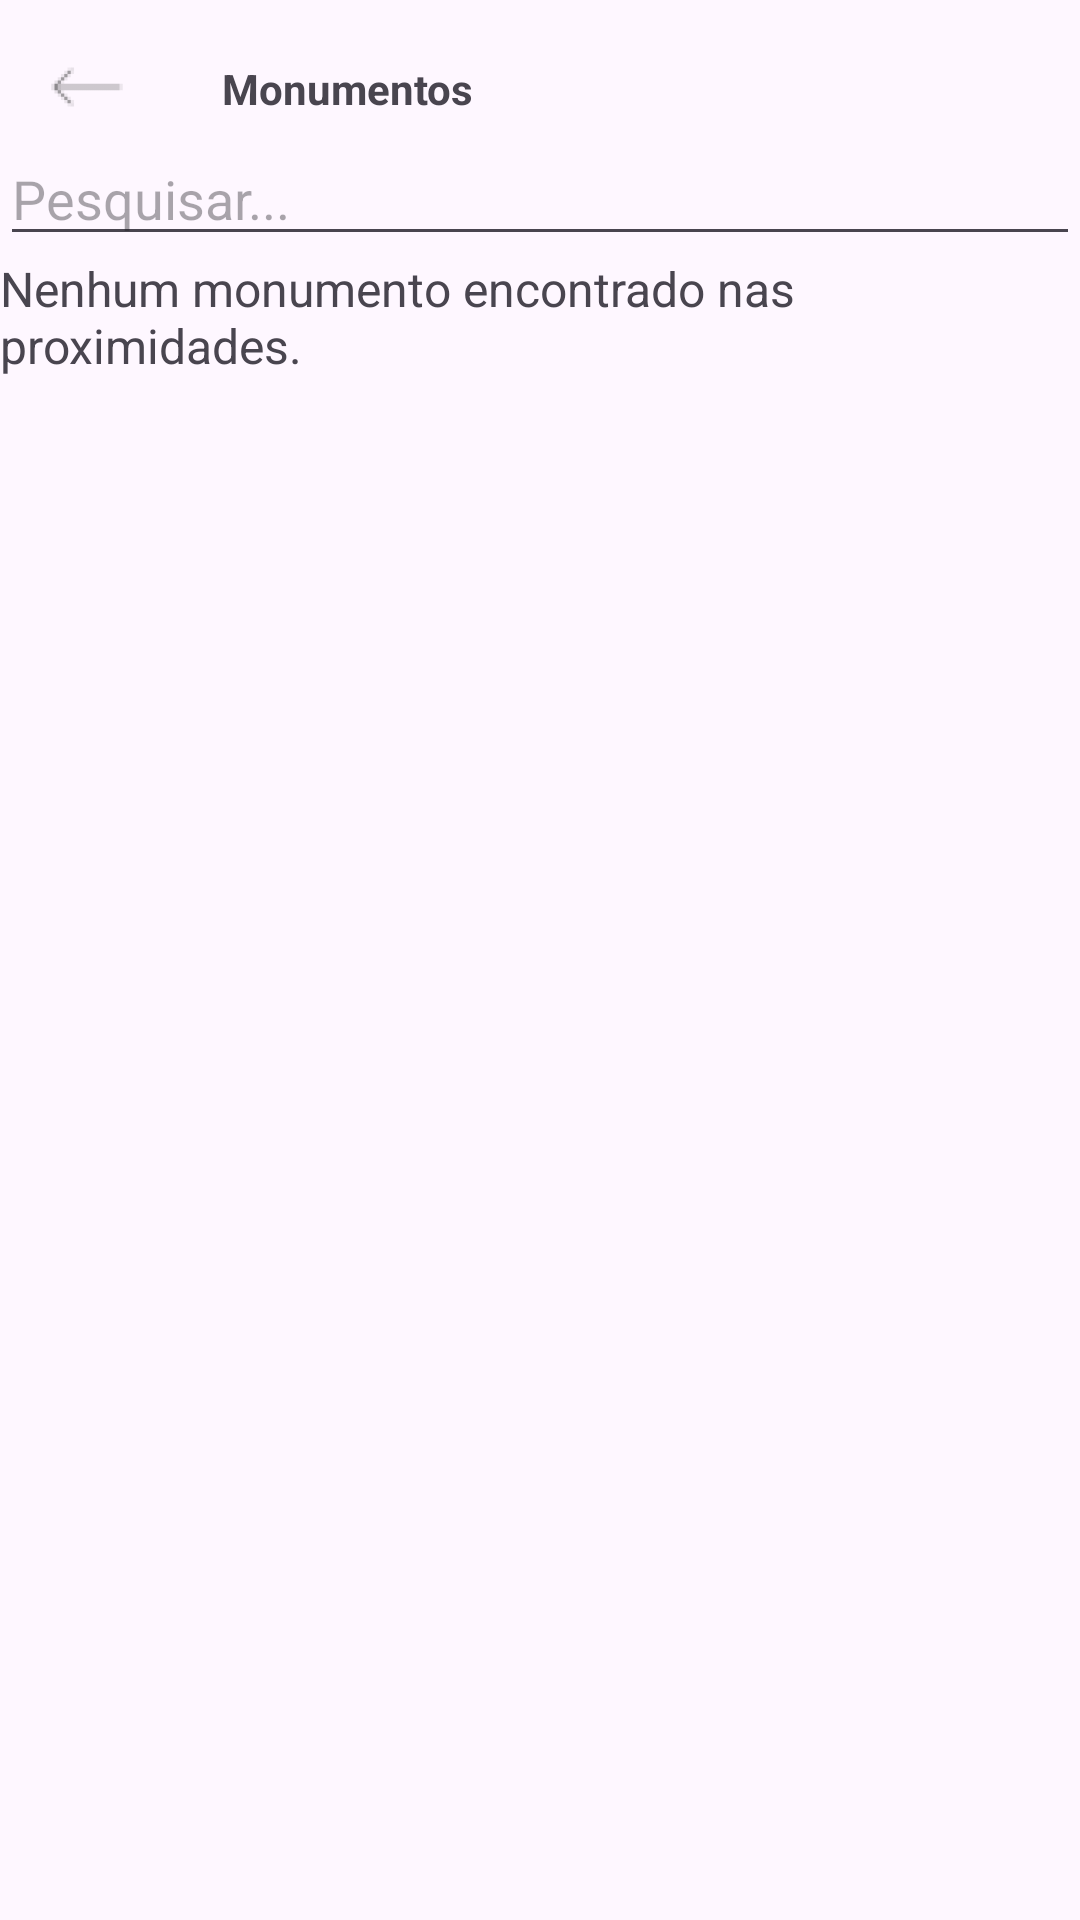

Point at icon controls on the screen. Image size 1080 x 1920, points as (x=x, y=y).
voltar: (x=87, y=87)
